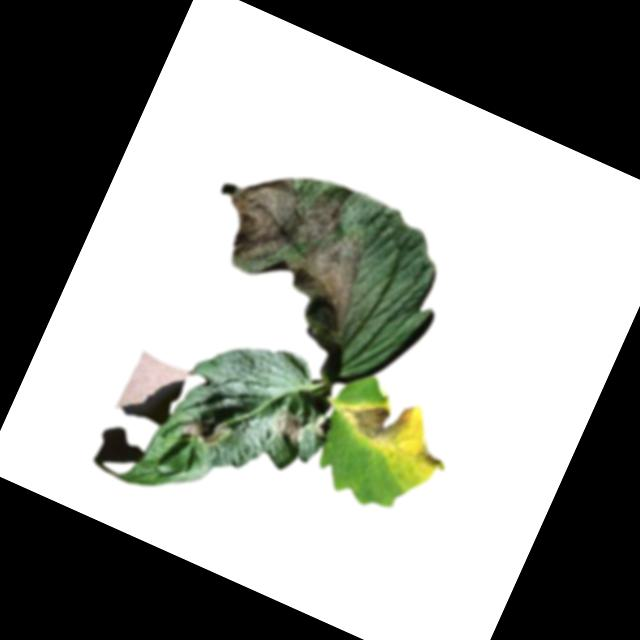Late_blight: (170, 143, 395, 354), (334, 378, 415, 449), (177, 406, 233, 451), (265, 405, 309, 447), (418, 447, 446, 469)
